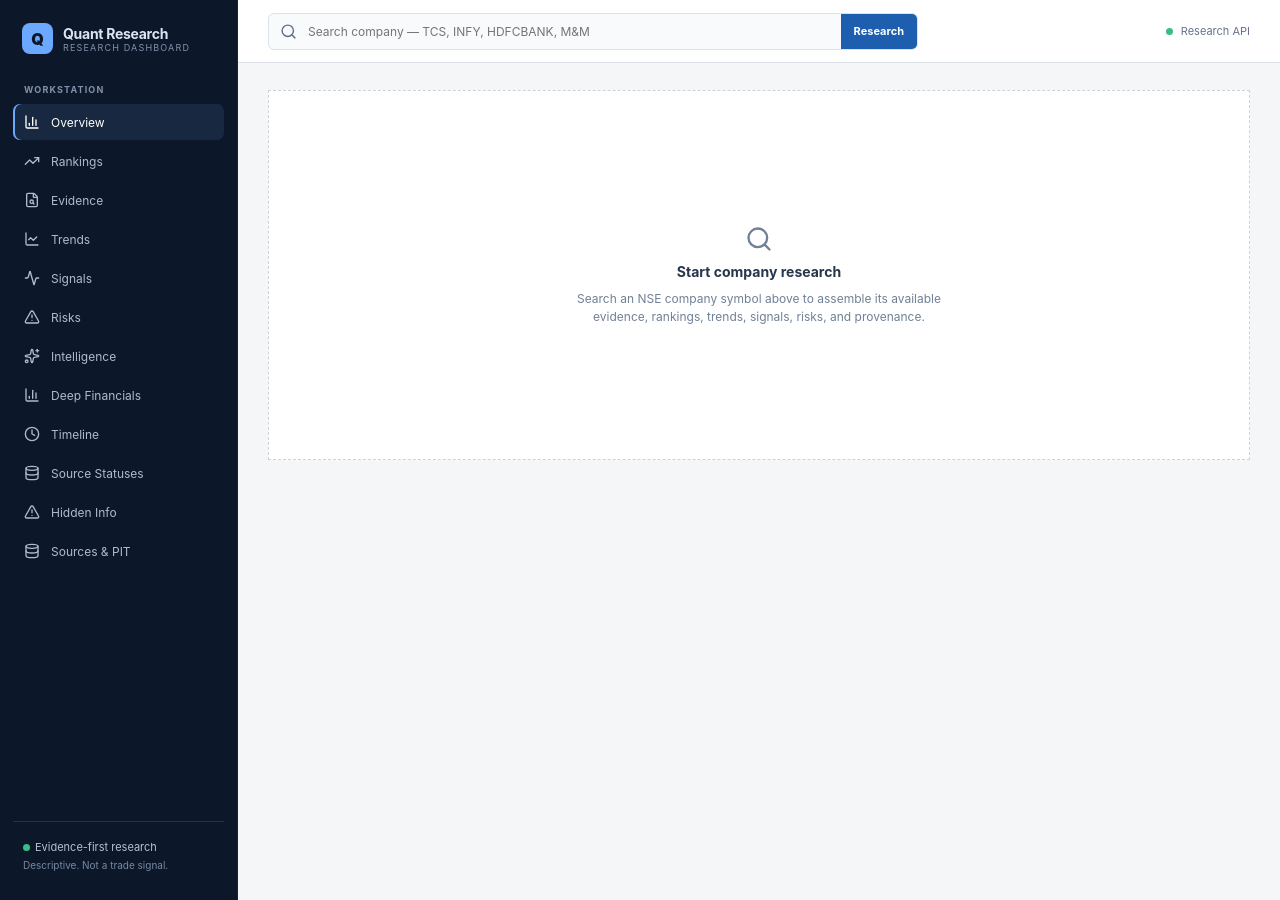
App › surfaces degraded research context
Type "TCS" into the field named "Company search" at (569, 31), box x1=306 y1=22 x2=832 y2=40
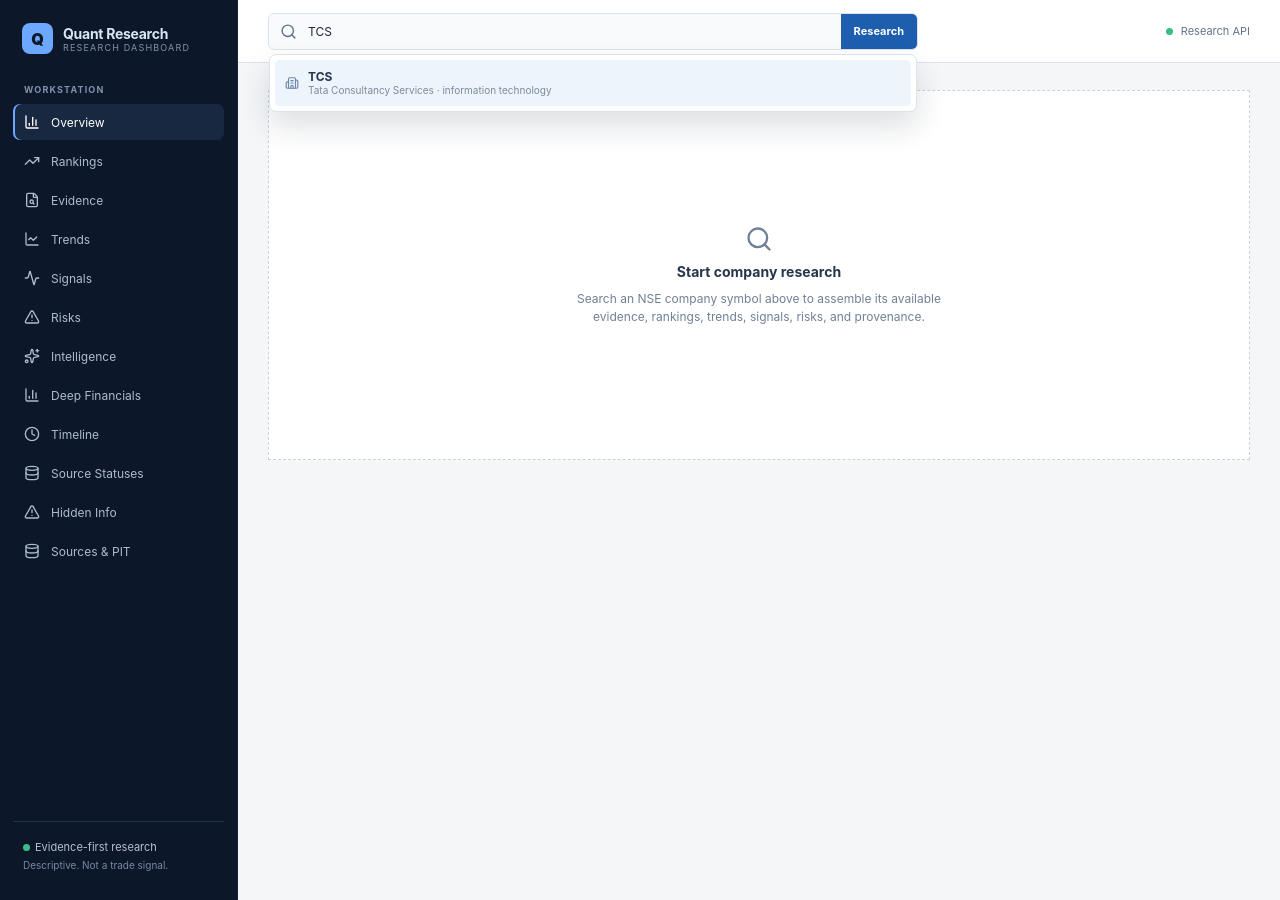
Click the text "TCS" at (320, 76), box x1=308 y1=68 x2=332 y2=84
(page scrolled)
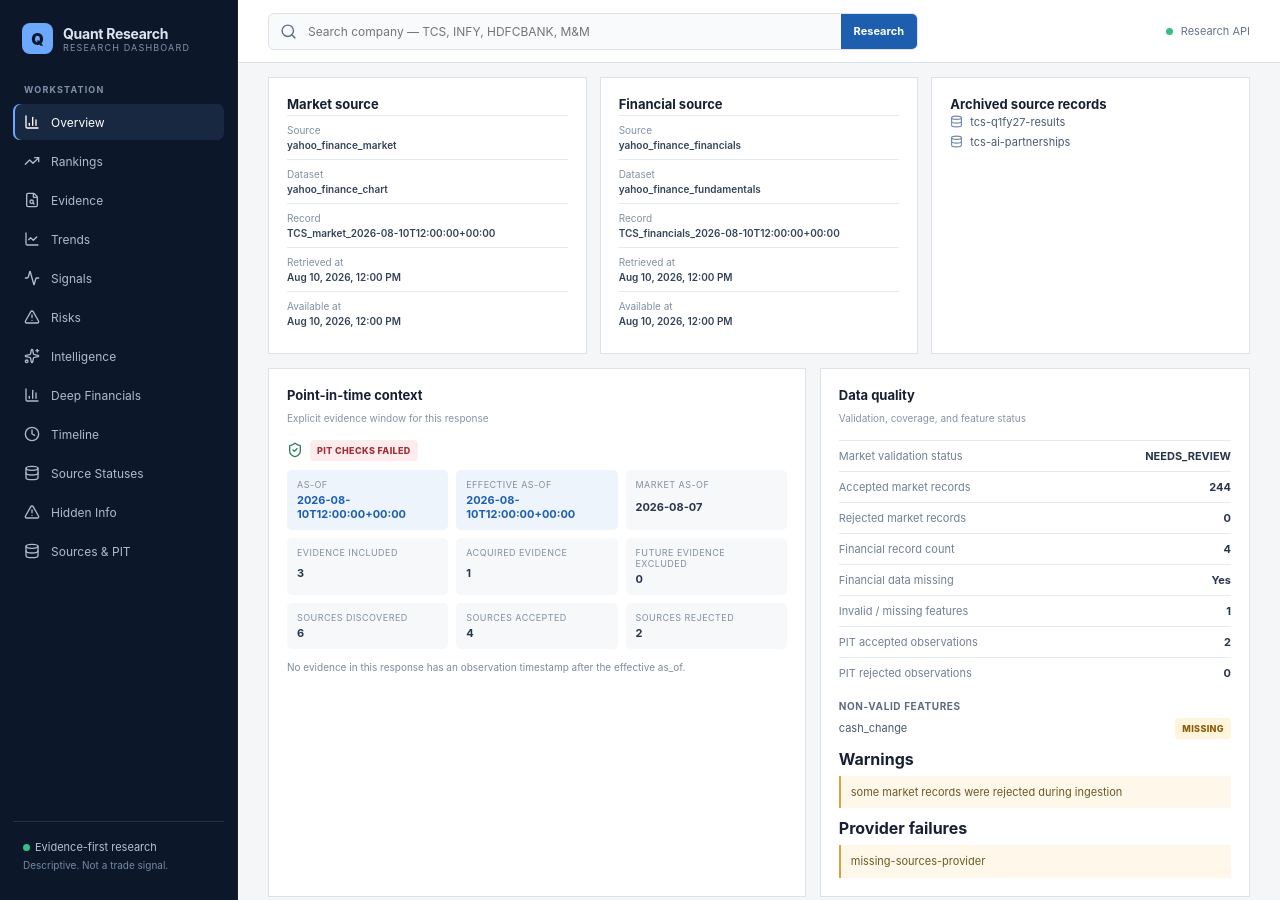
Check: the text "PIT CHECKS FAILED" is shown, box x1=310 y1=440 x2=418 y2=461
